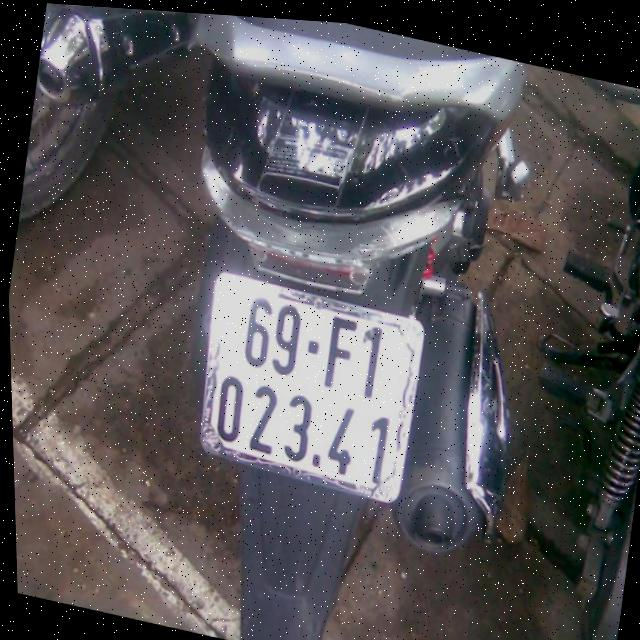motorcycle: (98, 7, 577, 640), (479, 72, 640, 640)
plate: (186, 267, 436, 509)
